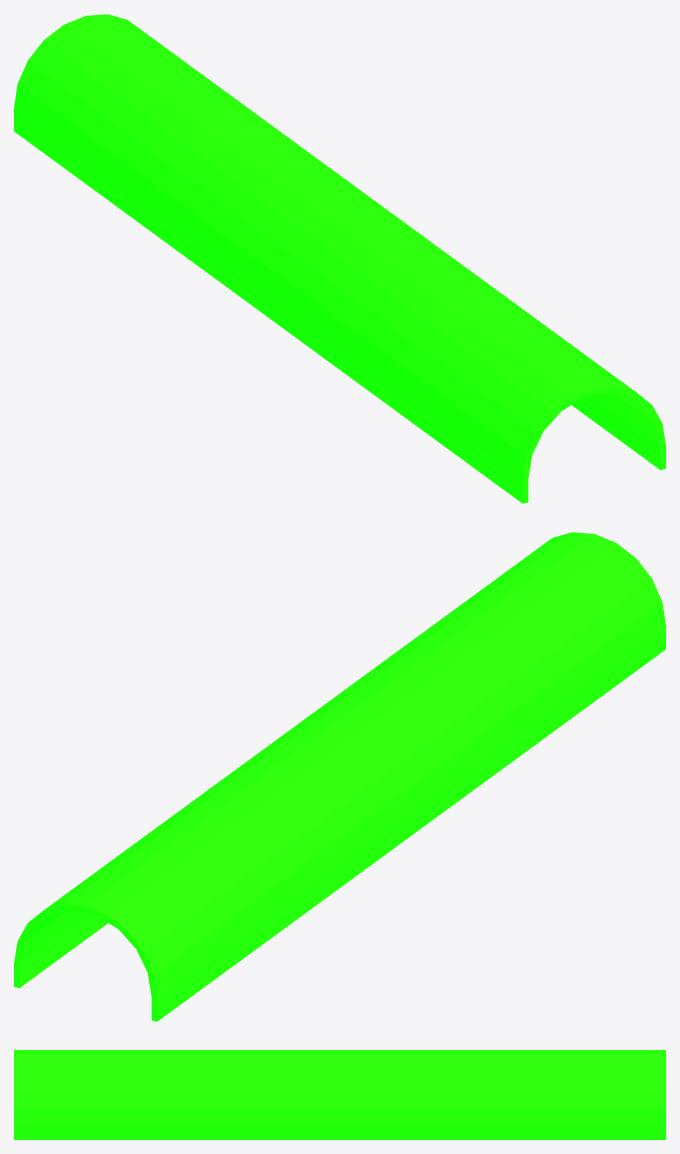
File: tunnel.dae
The picture shows the model from 3 angles, top to bottom: view 1: azimuth 30°, elevation 25°; view 2: azimuth 150°, elevation 25°; view 3: azimuth 270°, elevation 25°; orthographic projection. The views are drawn at different scales.
Parts seen in each view (by area): view 1: InfiniteOverpassInsideTunnel; view 2: InfiniteOverpassInsideTunnel; view 3: InfiniteOverpassInsideTunnel.
Part boxes in pixels (box(x1,y1,x2,y2)): InfiniteOverpassInsideTunnel: box(14, 14, 665, 503); InfiniteOverpassInsideTunnel: box(14, 532, 665, 1021); InfiniteOverpassInsideTunnel: box(14, 1050, 665, 1139).
Bounding box in the file's own units: 1.3 × 8 × 0.85.
